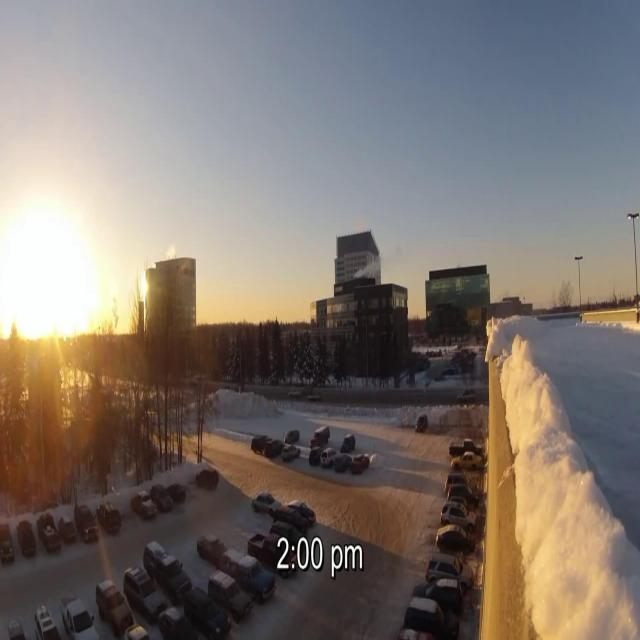Fire: (352, 253, 388, 280)
